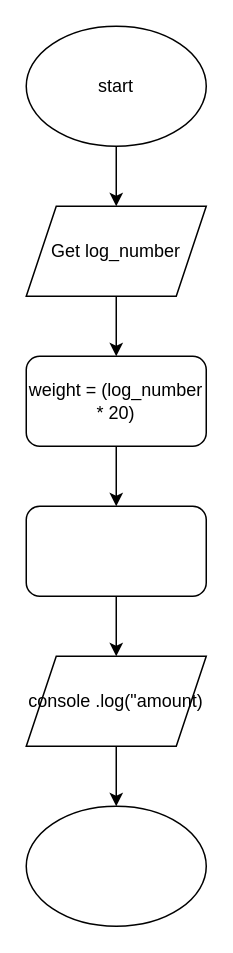
This 233x953 diagram has some shape labels left out. The shapes that lost their labels are listed below. From the top down, each one's centre as x and y in pixels, then its label:
the point at 115,550: amount = (1100 * weight)
the point at 115,865: stop
